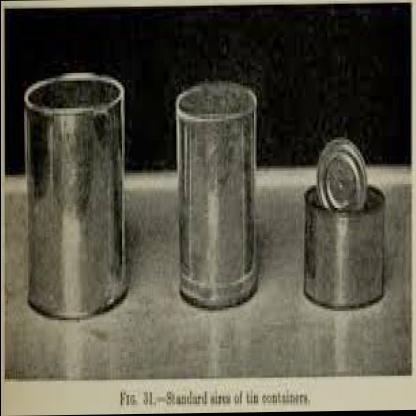trash: (24, 73, 127, 318), (176, 81, 257, 308), (304, 138, 384, 307)
